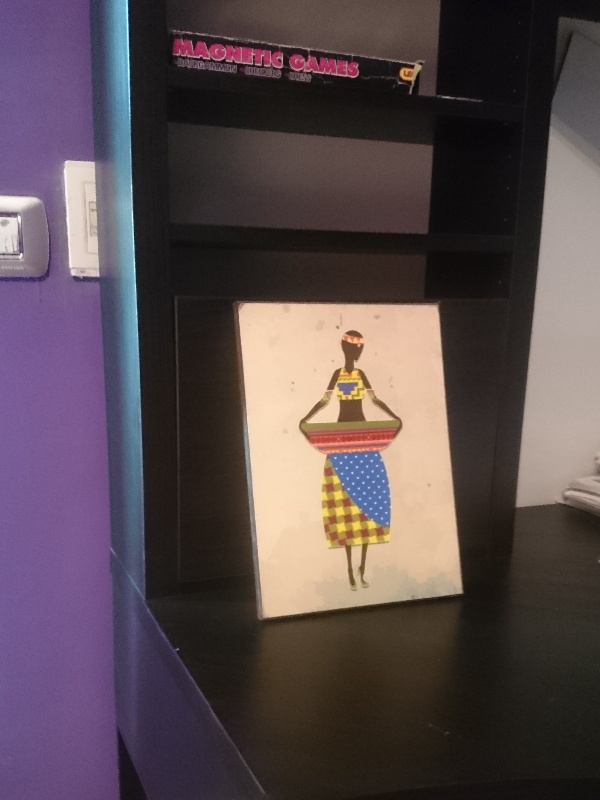my image: (234, 304, 460, 621)
